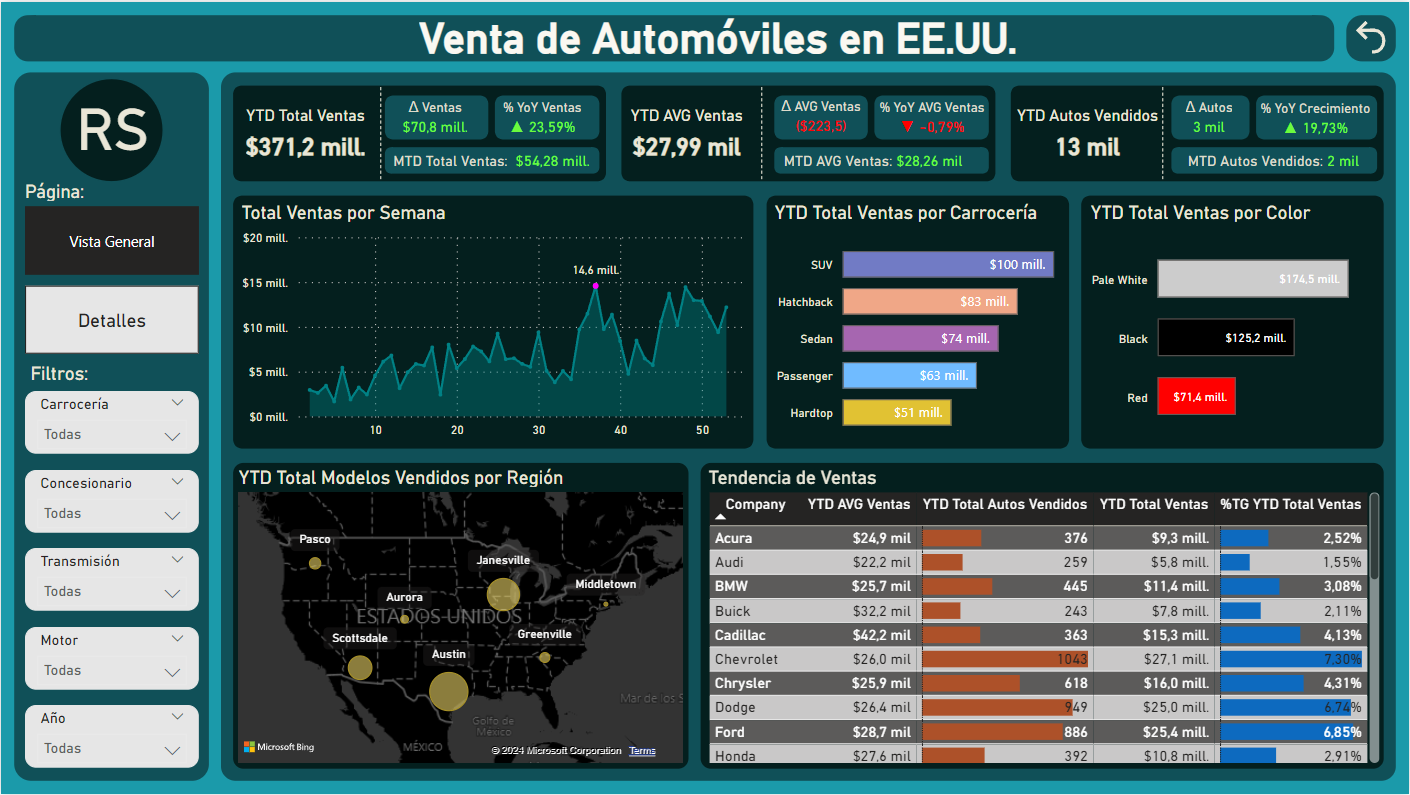

What the dashboard file says about the page in this screenshot:
{"tool":"powerbi","page":{"name":"Vista General","canvas":[1280,720],"ordinal":0},"visuals":[{"type":"areaChart","title":"Total Ventas por Semana","fields":{"Y":["Medidas_DAX.Total Ventas","Medidas_DAX.Max point on area chart"],"Category":["Dim_Calendar DAX.#SemanaAño"]},"box":[213.6,180.9,468.2,221.8],"z":0},{"type":"cardVisual","fields":{"Data":["Medidas_DAX.YTD AVG Ventas"]},"box":[549.1,77.3,356.4,84.5],"z":1000},{"type":"cardVisual","fields":{"Data":["Medidas_DAX.Diferencia AVG Ventas"]},"box":[686.4,78.2,118.2,52.7],"z":2000},{"type":"cardVisual","fields":{"Data":["Medidas_DAX.YTD Total Modelos Vendidos"]},"box":[913.6,77.3,355.5,84.5],"z":3000},{"type":"cardVisual","fields":{"Data":["Medidas_DAX.YTD Total Ventas"]},"box":[202.7,77.3,355.5,84.5],"z":4000},{"type":"cardVisual","fields":{"Data":["Medidas_DAX.% YoY AVG Ventas CONDICIONAL"]},"box":[787.3,78.2,118.2,52.7],"z":5000},{"type":"cardVisual","fields":{"Data":["Medidas_DAX.% YoY Crecimiento Modelos Vendidos CONDICIONAL"]},"box":[1131.8,79.1,126.4,52.7],"z":6000},{"type":"clusteredBarChart","fields":{"Y":["Medidas_DAX.YTD Total Ventas"],"Category":["car_data.Body Style"]},"box":[698.2,180.9,308.2,221.8],"z":7000},{"type":"cardVisual","fields":{"Data":["Medidas_DAX.Diferencia Total Modelos Vendidos"]},"box":[1039.1,79.1,118.2,52.7],"z":8000},{"type":"cardVisual","fields":{"Data":["Medidas_DAX.Diferencia Total Ventas"]},"box":[338.2,79.1,113.6,52.7],"z":9000},{"type":"clusteredBarChart","fields":{"Y":["Medidas_DAX.YTD Total Ventas"],"Category":["car_data.Color"]},"box":[985.5,180.9,294.5,221.8],"z":10000},{"type":"cardVisual","fields":{"Data":["Medidas_DAX.% YoY Ventas CONDICIONAL"]},"box":[435.5,78.2,113.6,52.7],"z":11000},{"type":"map","fields":{"Category":["car_data.Dealer_Region"],"Size":["Medidas_DAX.YTD Total Modelos Vendidos"]},"box":[210.9,421.8,413.6,274.5],"z":12000},{"type":"tableEx","title":"Tendencia de Ventas","fields":{"Values":["car_data.Company","Medidas_DAX.YTD AVG Ventas","Medidas_DAX.YTD Total Modelos Vendidos","Medidas_DAX.YTD Total Ventas1","Medidas_DAX.YTD Total Ventas"]},"box":[638.2,421.8,620,274.5],"z":13000},{"type":"slicer","fields":{"Values":["car_data.Body Style"]},"box":[21.8,353.6,158.2,57.3],"z":14000},{"type":"slicer","fields":{"Values":["car_data.Dealer_Name"]},"box":[21.8,425,158.2,57.3],"z":15000},{"type":"slicer","fields":{"Values":["car_data.Transmission"]},"box":[21.8,496.4,158.2,57.3],"z":16000},{"type":"slicer","fields":{"Values":["Dim_Calendar DAX.#Año"]},"box":[21.8,639.1,158.2,57.3],"z":17000},{"type":"slicer","fields":{"Values":["car_data.Engine"]},"box":[21.8,567.7,158.2,57.3],"z":18000},{"type":"pageNavigator","title":"Página:","box":[22,162,158,159],"z":19000},{"type":"actionButton","box":[1225,12,44,40],"z":20000},{"type":"textbox","box":[380,10,561.8,50.9],"z":21000},{"type":"textbox","box":[21.8,322.7,79.1,30.9],"z":22000},{"type":"textbox","box":[64,81,86,73],"z":23000}]}

Visuals, with their boxes in screenshot pixels (x1, y1, x2, y2), scaled from the page's 1280x720 canvas onto the 1410x795 screenshot:
"Total Ventas por Semana" areaChart: Rect(235, 200, 751, 445)
cardVisual - Medidas_DAX.YTD AVG Ventas: Rect(605, 85, 997, 179)
cardVisual - Medidas_DAX.Diferencia AVG Ventas: Rect(756, 86, 886, 145)
cardVisual - Medidas_DAX.YTD Total Modelos Vendidos: Rect(1006, 85, 1398, 179)
cardVisual - Medidas_DAX.YTD Total Ventas: Rect(223, 85, 615, 179)
cardVisual - Medidas_DAX.% YoY AVG Ventas CONDICIONAL: Rect(867, 86, 997, 145)
cardVisual - Medidas_DAX.% YoY Crecimiento Modelos Vendidos CONDICIONAL: Rect(1247, 87, 1386, 146)
clusteredBarChart - Medidas_DAX.YTD Total Ventas x car_data.Body Style: Rect(769, 200, 1109, 445)
cardVisual - Medidas_DAX.Diferencia Total Modelos Vendidos: Rect(1145, 87, 1275, 146)
cardVisual - Medidas_DAX.Diferencia Total Ventas: Rect(373, 87, 498, 146)
clusteredBarChart - Medidas_DAX.YTD Total Ventas x car_data.Color: Rect(1086, 200, 1409, 445)
cardVisual - Medidas_DAX.% YoY Ventas CONDICIONAL: Rect(480, 86, 605, 145)
map - car_data.Dealer_Region x Medidas_DAX.YTD Total Modelos Vendidos: Rect(232, 466, 688, 769)
"Tendencia de Ventas" tableEx: Rect(703, 466, 1386, 769)
slicer - car_data.Body Style: Rect(24, 390, 198, 454)
slicer - car_data.Dealer_Name: Rect(24, 469, 198, 533)
slicer - car_data.Transmission: Rect(24, 548, 198, 611)
slicer - Dim_Calendar DAX.#Año: Rect(24, 706, 198, 769)
slicer - car_data.Engine: Rect(24, 627, 198, 690)
"Página:" pageNavigator: Rect(24, 179, 198, 354)
actionButton: Rect(1349, 13, 1398, 57)
textbox: Rect(419, 11, 1037, 67)
textbox: Rect(24, 356, 111, 390)
textbox: Rect(70, 89, 165, 170)
